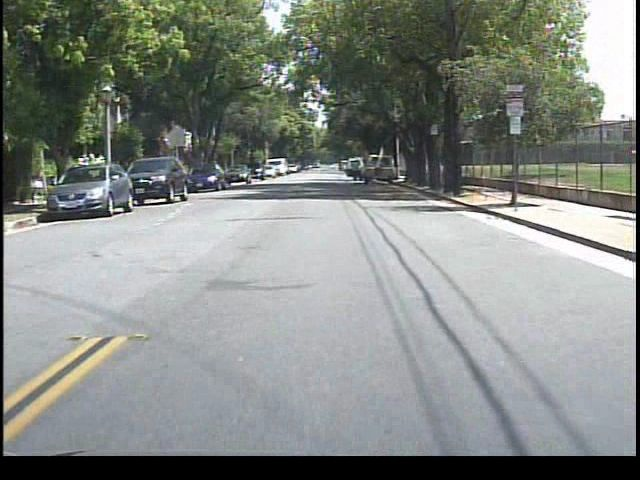person: (347, 158, 362, 183)
